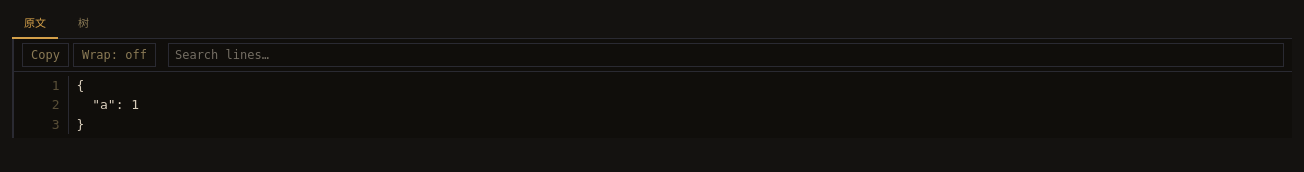
it: RawJsonView 双视图切换 › 可切到 tree 视图:tab 选中态翻转、树节点渲染
The width and height of the screenshot is (1304, 172).
Step 1. Click the tab "树" → (84, 25), box x1=66 y1=12 x2=101 y2=38
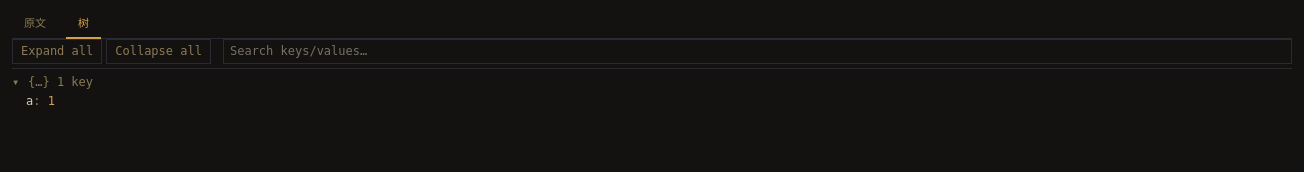
Result: the text "a" is shown at x1=26 y1=94 x2=33 y2=108
